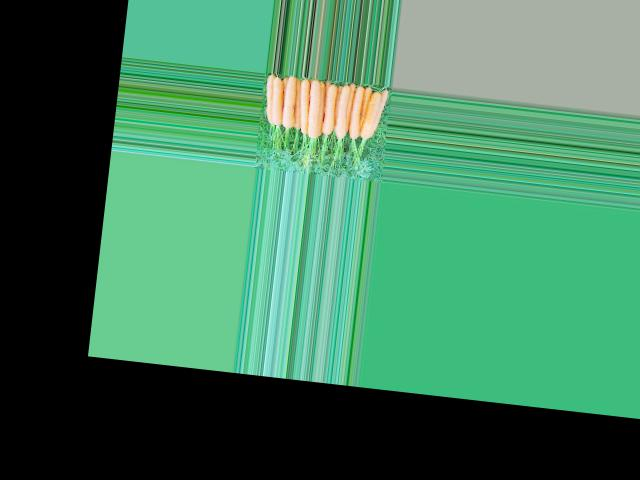carrot: (264, 72, 277, 123)
